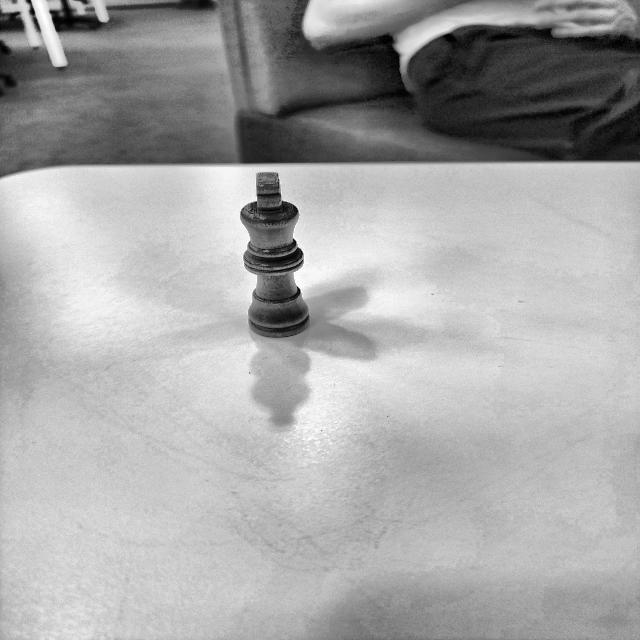black-king: (239, 172, 310, 338)
